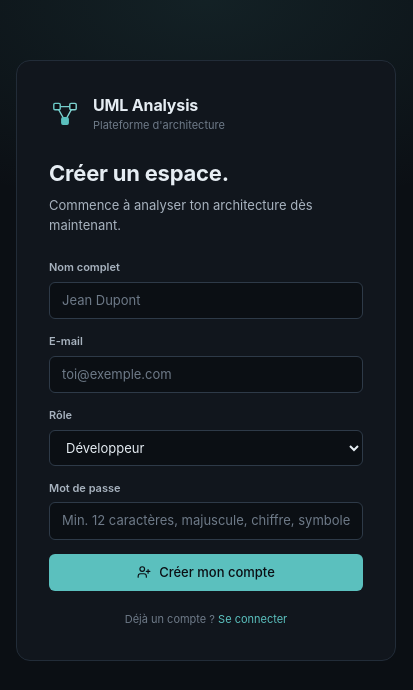
Register › shows hint when password has no digit
Type "NoDigitHere!!" into the password field with placeholder "Min. 12 caractères, majuscule, chiffre, symbole" at (206, 521), box [49, 502, 363, 540]
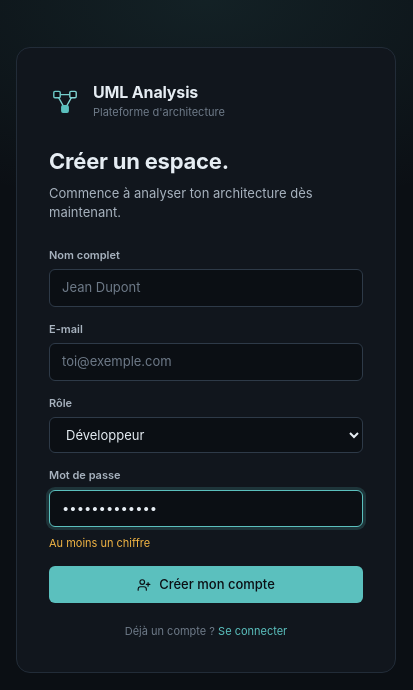
Expected: the text "Au moins un chiffre" is shown, [49, 536, 150, 550]
